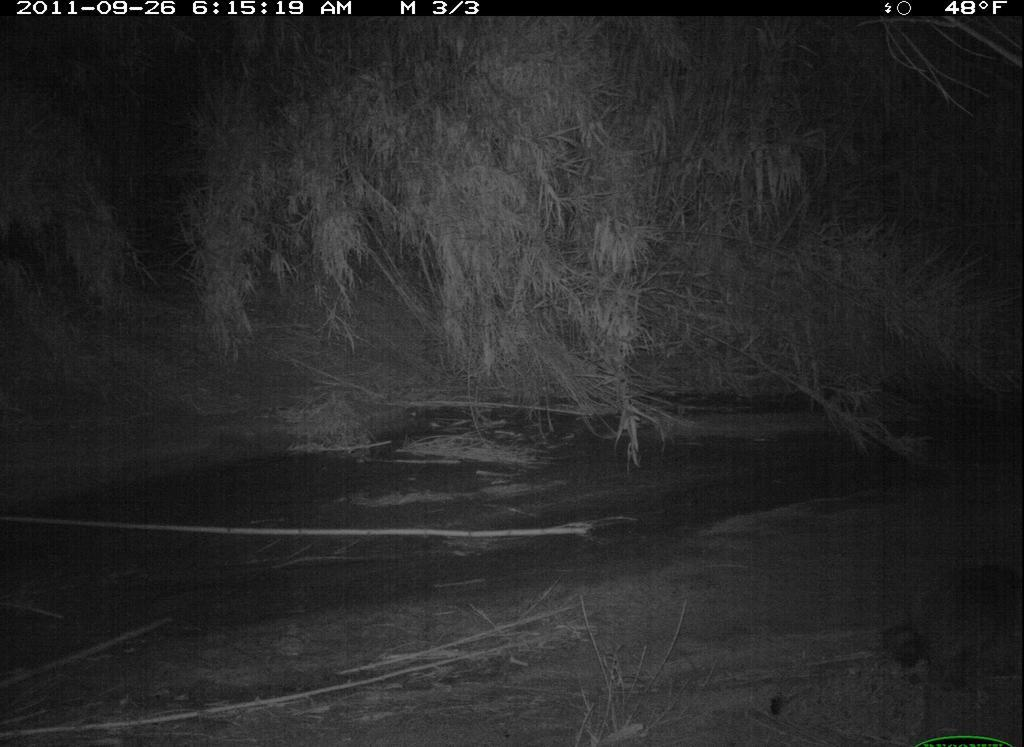raccoon: (868, 548, 1023, 703)
